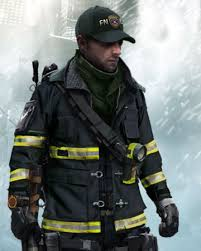emergent: (18, 5, 180, 250)
